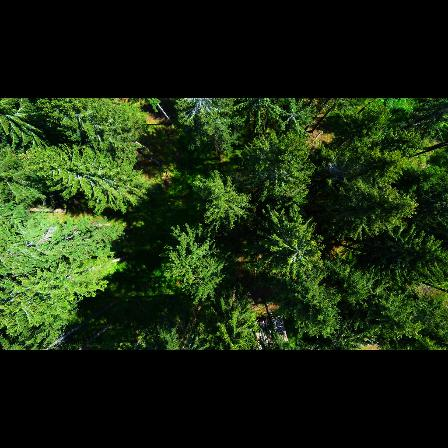Sick: (175, 98, 224, 131), (322, 151, 360, 188)
